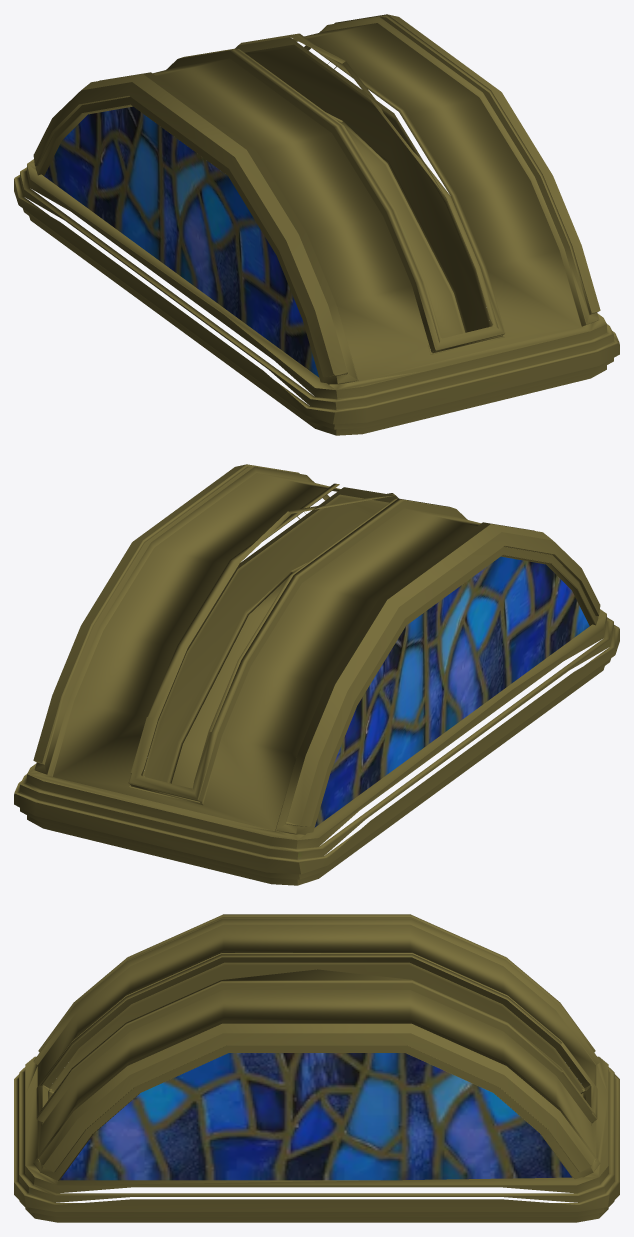
The model's file is leverBase_lowPoly.glb.
3 views of the same model, one above another, from view 1: azimuth 30°, elevation 25°; view 2: azimuth 150°, elevation 25°; view 3: azimuth 270°, elevation 25° (orthographic). The views are drawn at different scales.
Visible parts, largest first — view 1: Mesh_1.002; view 2: Mesh_1.002; view 3: Mesh_1.002.
Boxes of the visible parts, left/top/right/bottom form: Mesh_1.002: left=14, top=14, right=619, bottom=435; Mesh_1.002: left=14, top=464, right=619, bottom=885; Mesh_1.002: left=14, top=914, right=619, bottom=1222.
Size of the model in its own units: 0.4998 by 0.3451 by 0.9278.
1 material, 1 textured.
